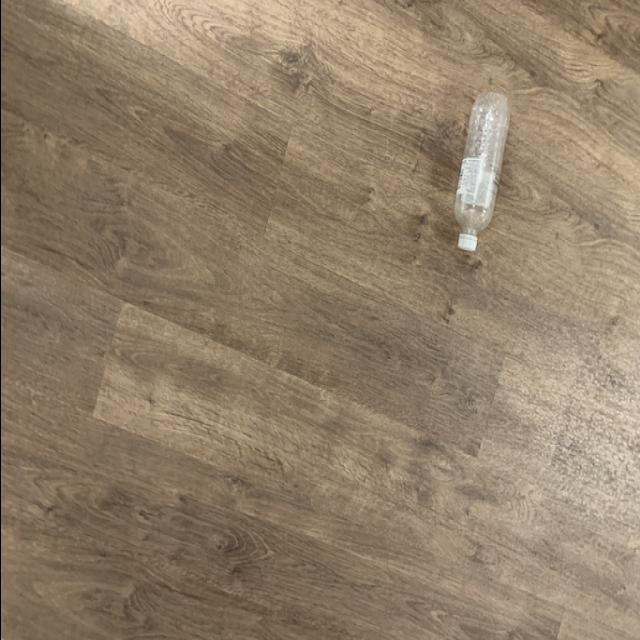PET: (452, 88, 508, 256)
